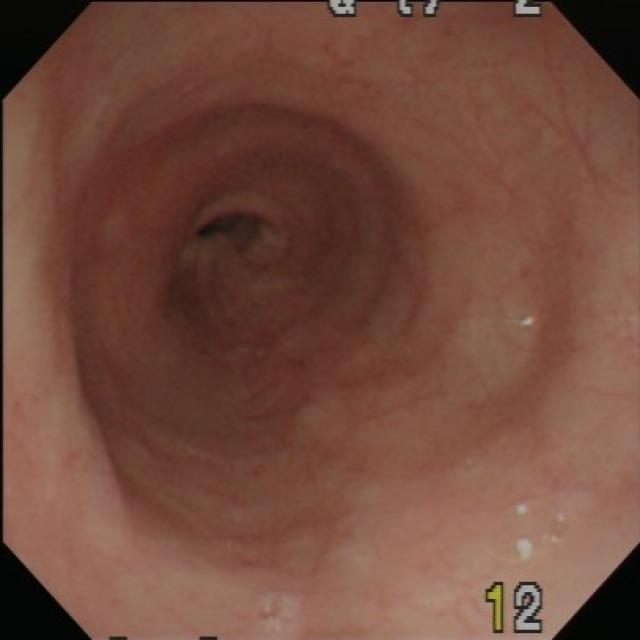E: (188, 200, 286, 272)
S: (325, 3, 545, 20), (485, 581, 547, 636)
T: (488, 498, 572, 563), (257, 588, 300, 638)
U: (512, 314, 544, 328)
